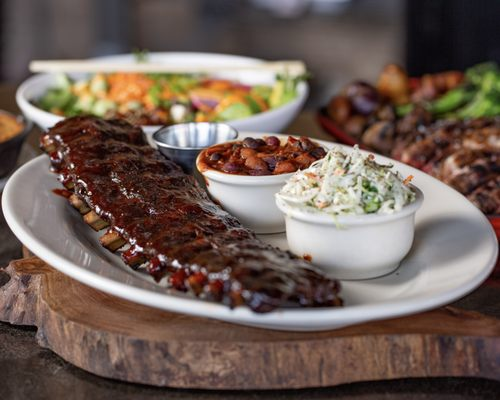curry: (423, 61, 500, 123)
sushi: (15, 65, 312, 162), (274, 145, 425, 279), (195, 134, 326, 234), (15, 72, 119, 133), (151, 122, 239, 175), (0, 107, 34, 180)
